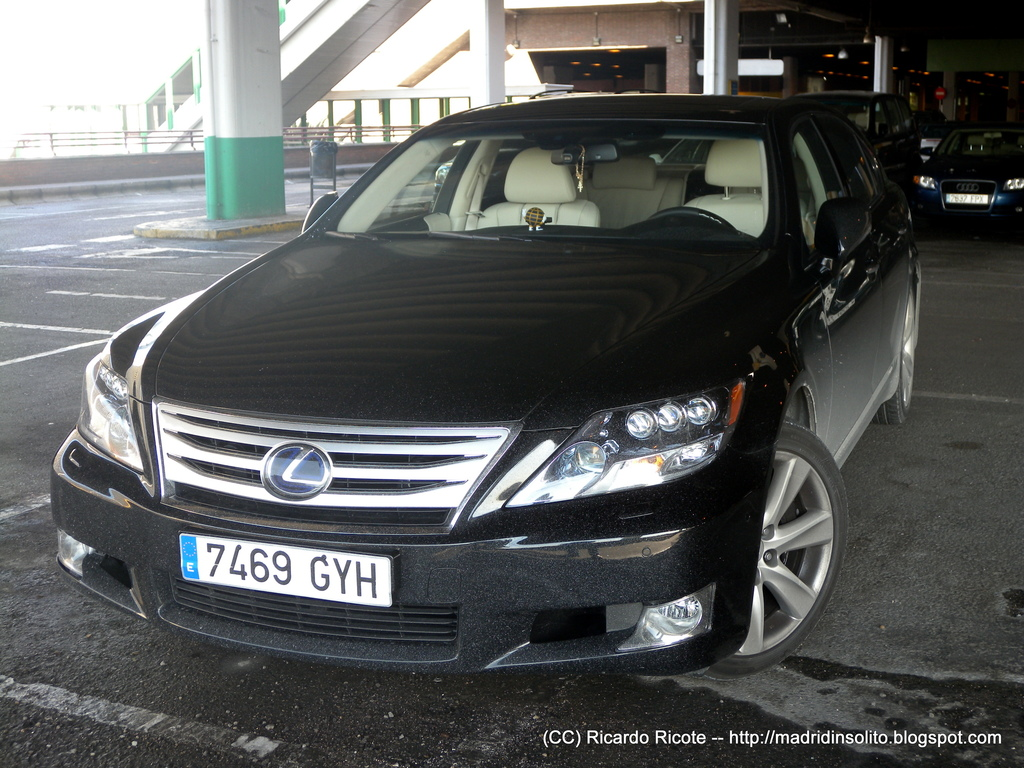license plate: (179, 527, 394, 578)
